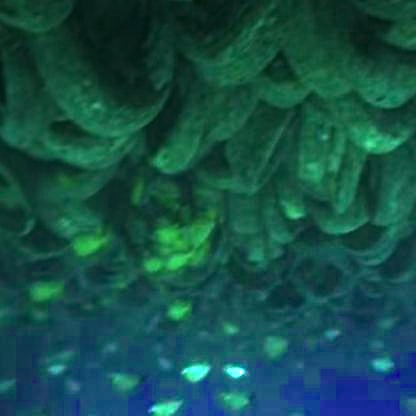tire: (50, 25, 178, 141), (185, 3, 294, 83), (289, 236, 361, 329)
